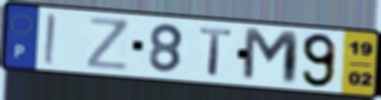8: (148, 22, 185, 75)
9: (299, 31, 341, 90)
I: (42, 12, 58, 67)
M: (239, 25, 302, 88)
T: (197, 26, 235, 78)
Z: (86, 15, 131, 73)
